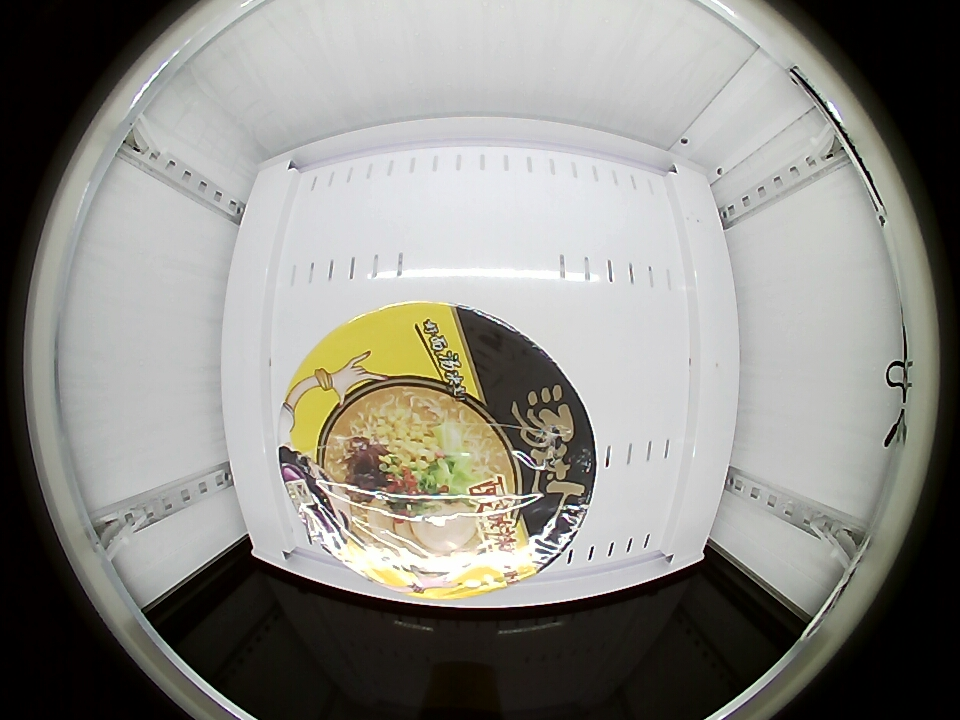tangdaren2: (277, 303, 598, 601)
